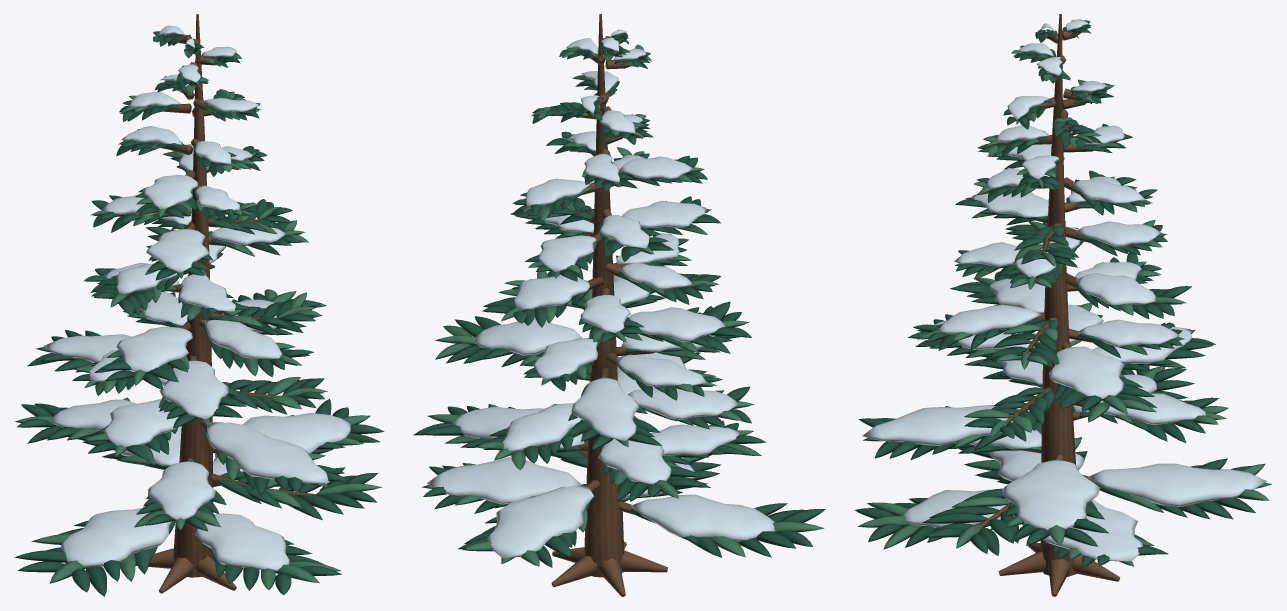
Rendered from pine_3.glb.
The picture shows the model from 3 angles, left to right: view 1: azimuth 30°, elevation 25°; view 2: azimuth 150°, elevation 25°; view 3: azimuth 270°, elevation 25°; orthographic projection.
Visible parts, largest first — view 1: pine_3; view 2: pine_3; view 3: pine_3.
Boxes of the visible parts, bbox=[...] form: pine_3: bbox=[14, 14, 384, 596]; pine_3: bbox=[413, 14, 825, 596]; pine_3: bbox=[854, 14, 1271, 596].
Size of the model in its own units: 3.25 by 4.67 by 3.17.
Materials: 4 (4 with a texture image).
